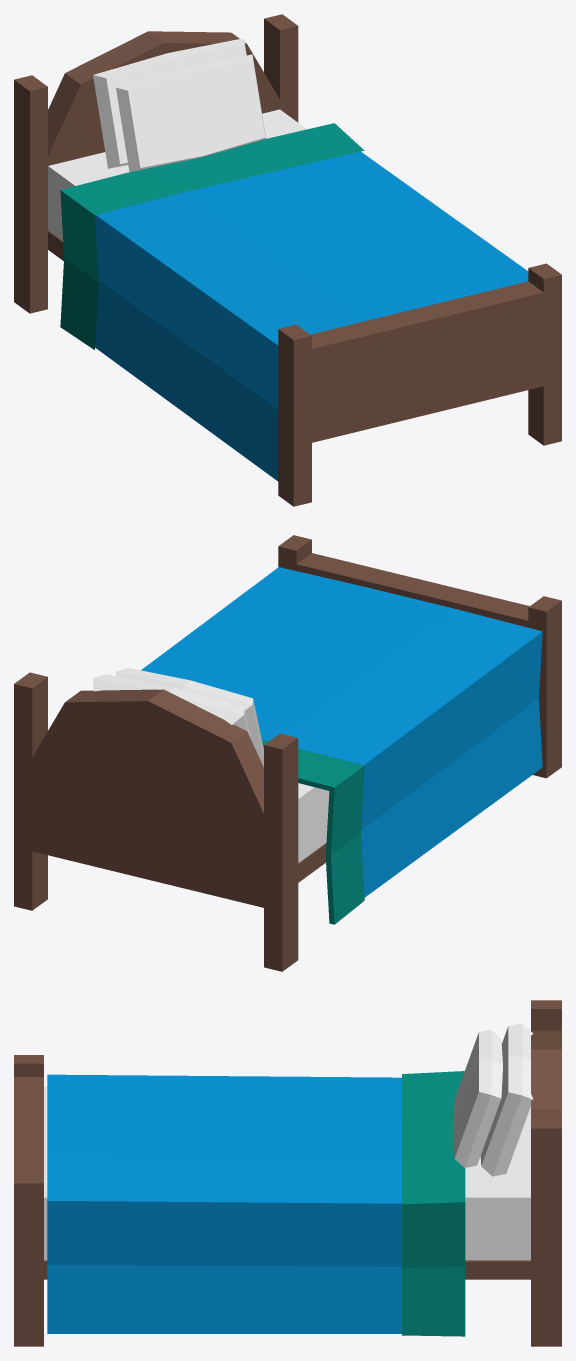
The model's file is bed.glb.
The picture shows the model from 3 angles, top to bottom: view 1: azimuth 30°, elevation 25°; view 2: azimuth 150°, elevation 25°; view 3: azimuth 270°, elevation 25°; orthographic projection. The views are drawn at different scales.
Visible parts, largest first — view 1: Bed_01_Cube.044; view 2: Bed_01_Cube.044; view 3: Bed_01_Cube.044.
Part boxes in pixels (bbox=[...]): Bed_01_Cube.044: bbox=[14, 14, 561, 506]; Bed_01_Cube.044: bbox=[14, 535, 561, 971]; Bed_01_Cube.044: bbox=[14, 1000, 561, 1346].
Bounding box in the file's own units: 11.98 × 9.94 × 21.16.
